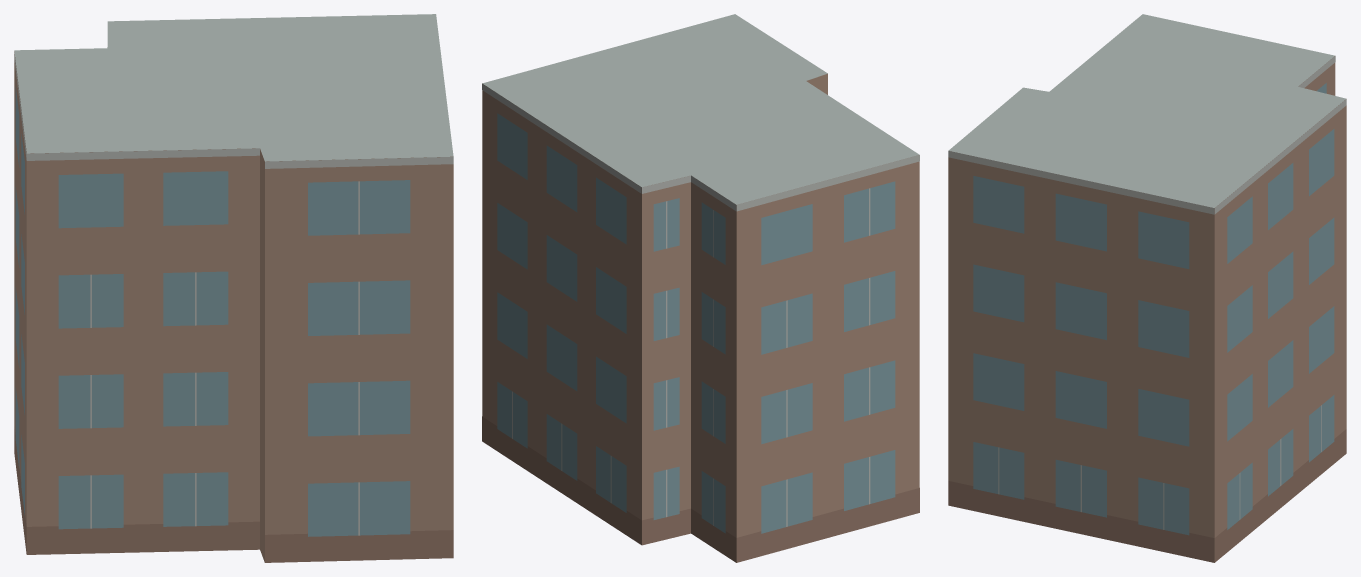
The model's file is survey-upis-32745129.glb.
3 views of the same model, side by side, from view 1: azimuth 30°, elevation 25°; view 2: azimuth 150°, elevation 25°; view 3: azimuth 270°, elevation 25° (orthographic). The views are drawn at different scales.
Visible parts, largest first — view 1: survey-upis-32745129.tmp; view 2: survey-upis-32745129.tmp; view 3: survey-upis-32745129.tmp.
Part boxes in pixels (box(x1,y1,x2,y2)): survey-upis-32745129.tmp: box(14, 14, 453, 562); survey-upis-32745129.tmp: box(482, 14, 919, 562); survey-upis-32745129.tmp: box(948, 14, 1346, 562).
Bounding box in the file's own units: 15.38 × 13.1 × 13.34.
